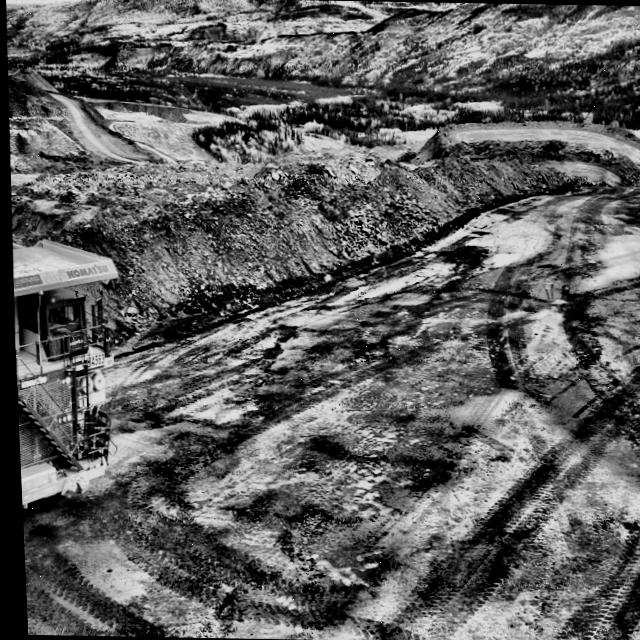dump_truck: (7, 207, 132, 541)
